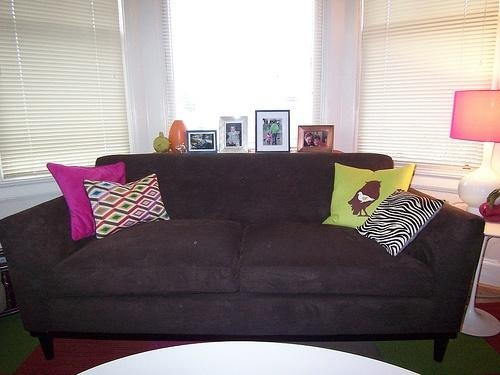sofa: (1, 153, 487, 360)
